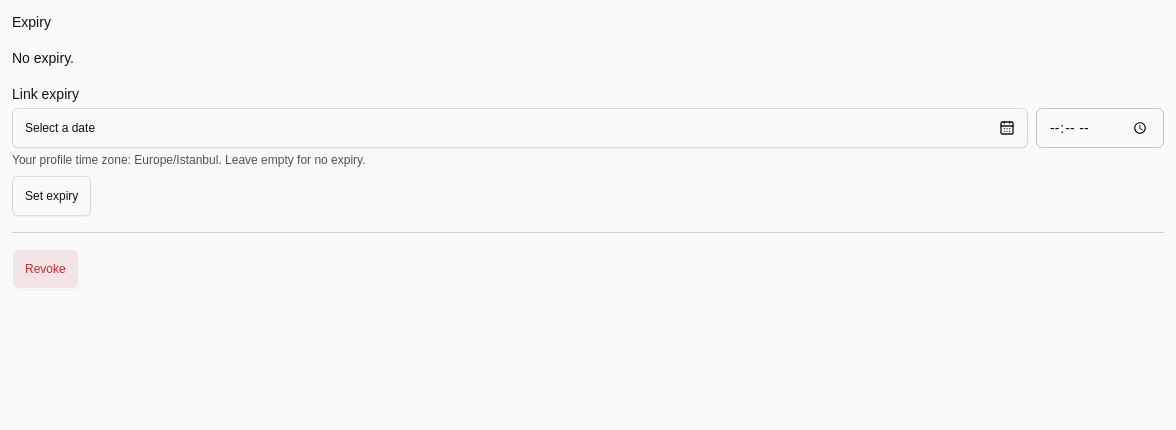
Share lifecycle panel › a failed action says so and keeps the confirmation open
Click the button "Revoke".
click(45, 269)  # box [12,249,79,289]
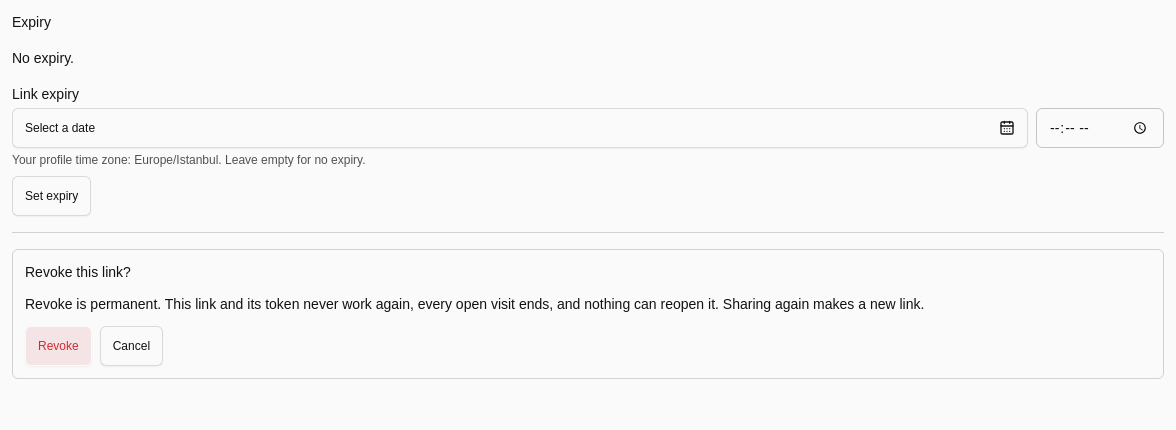
Click the button "Revoke".
click(58, 346)  # box [25,326,92,366]
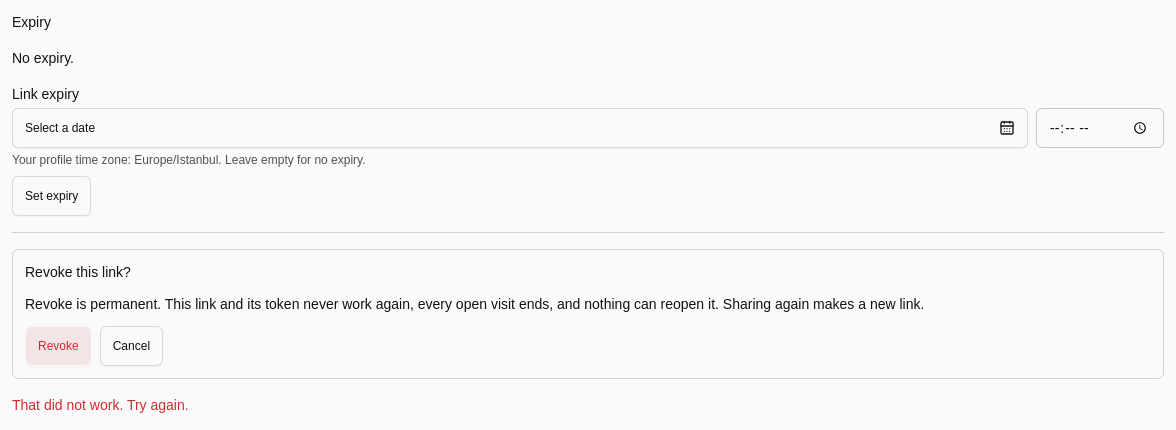
Check: the element that starts with "Revoke this link?" is shown, box [12,249,1164,379]
Check: the message "That did not work. Try again." is shown, box [12,397,189,413]
